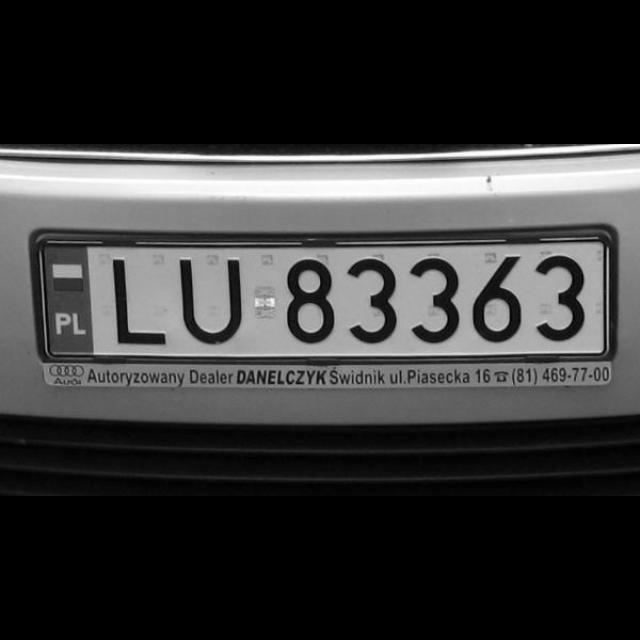licenseplate: (44, 242, 605, 354)
